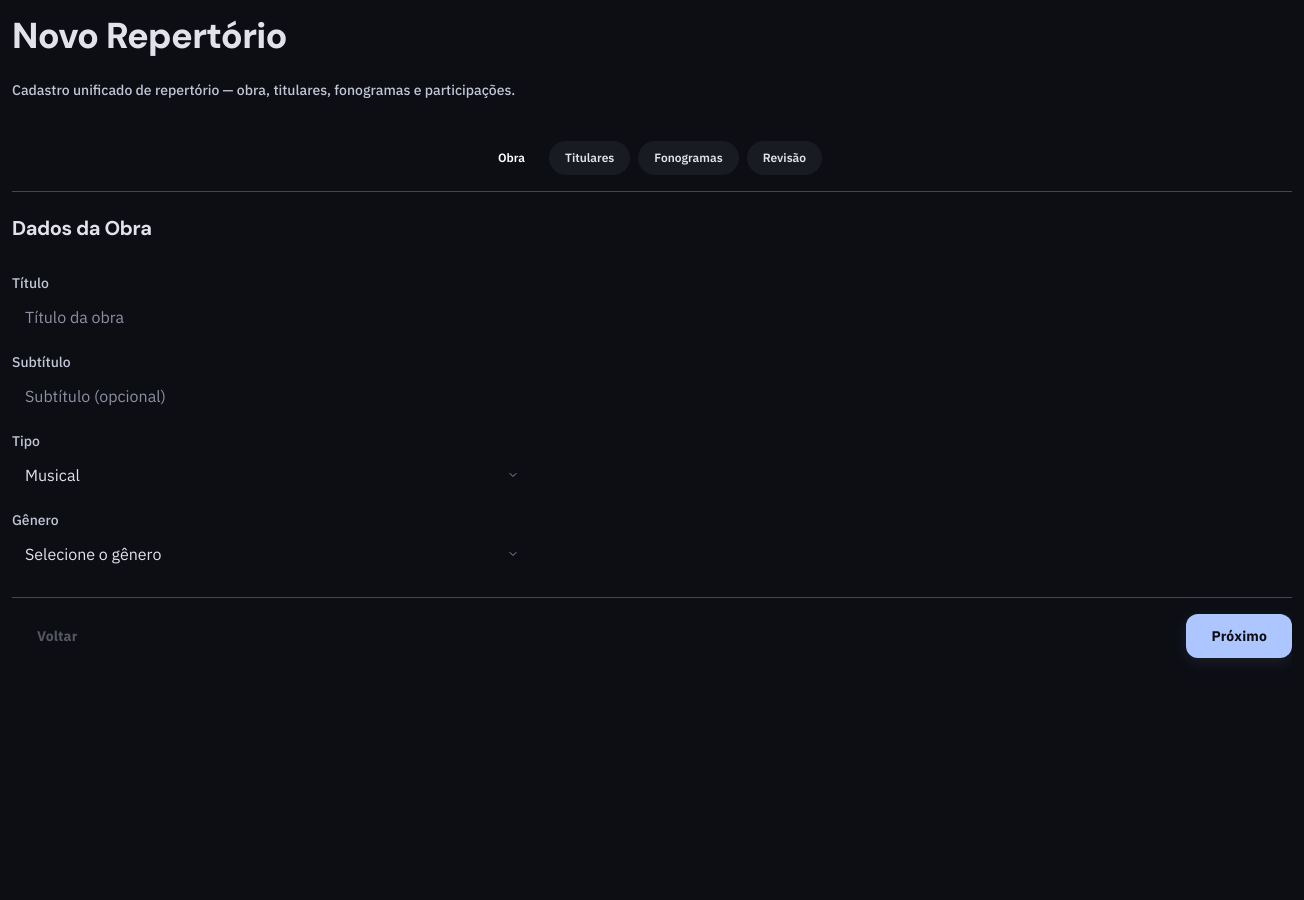
Test case: CadastroRepertorioPage › can advance from step 1 to step 2 when obra has title and type
In the field labelled "Título": {"x": 272, "y": 317} 12,298 -> 532,336, type "Minha Obra Teste"
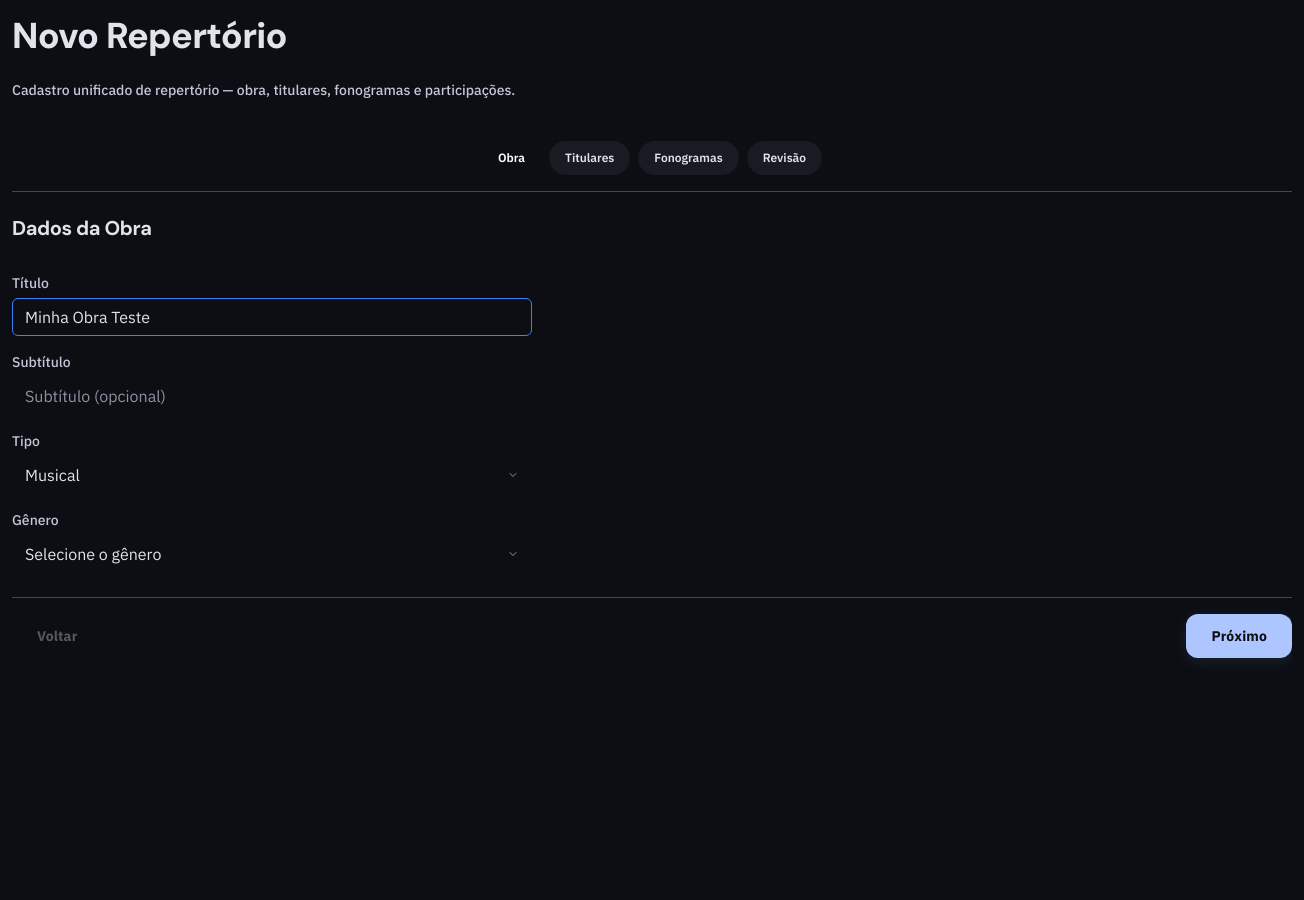
Select "Musical" in the dropdown labelled "Tipo": {"x": 272, "y": 475} 12,456 -> 532,494
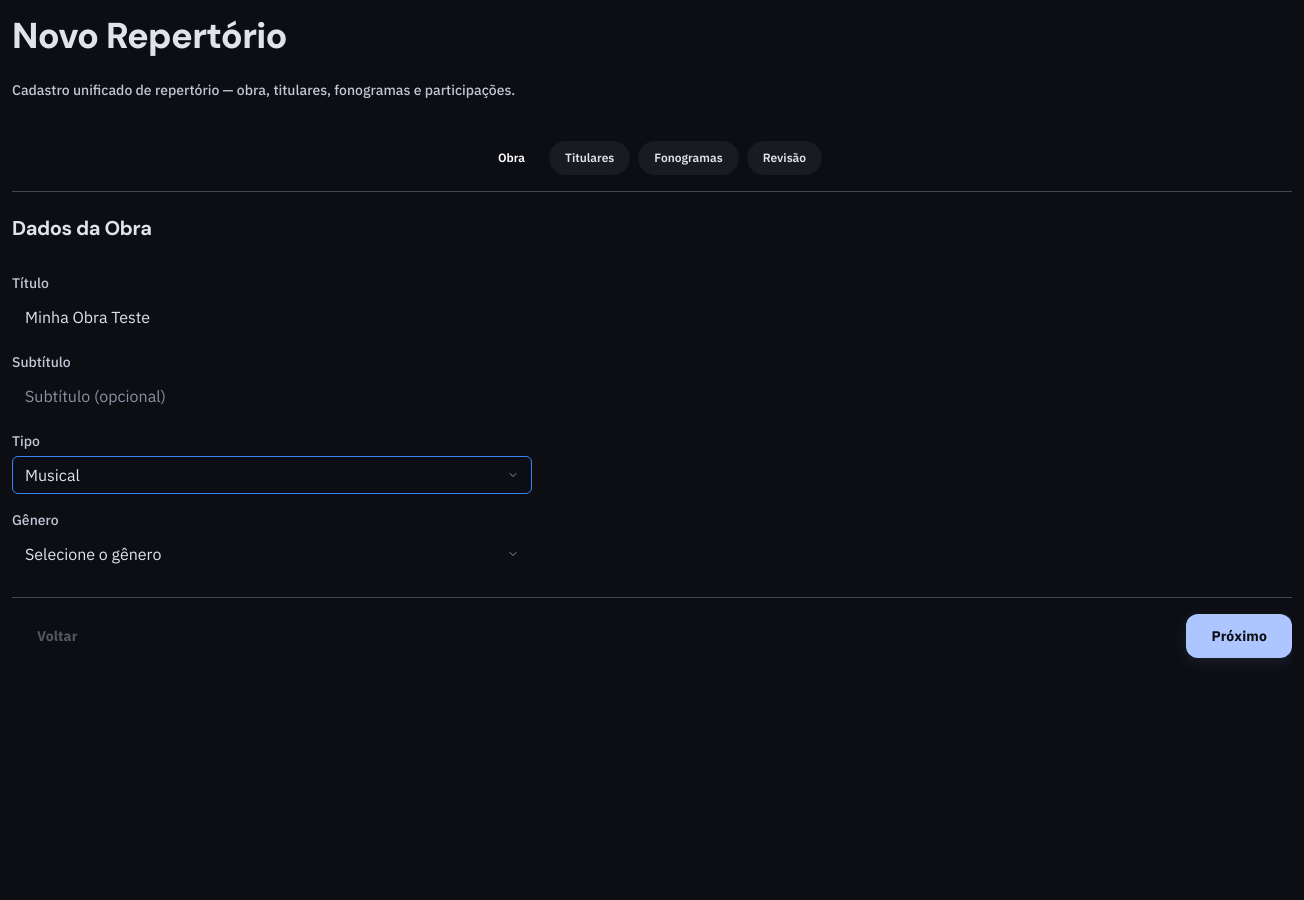
Click the button "Próximo": {"x": 1239, "y": 636} 1186,614 -> 1292,658
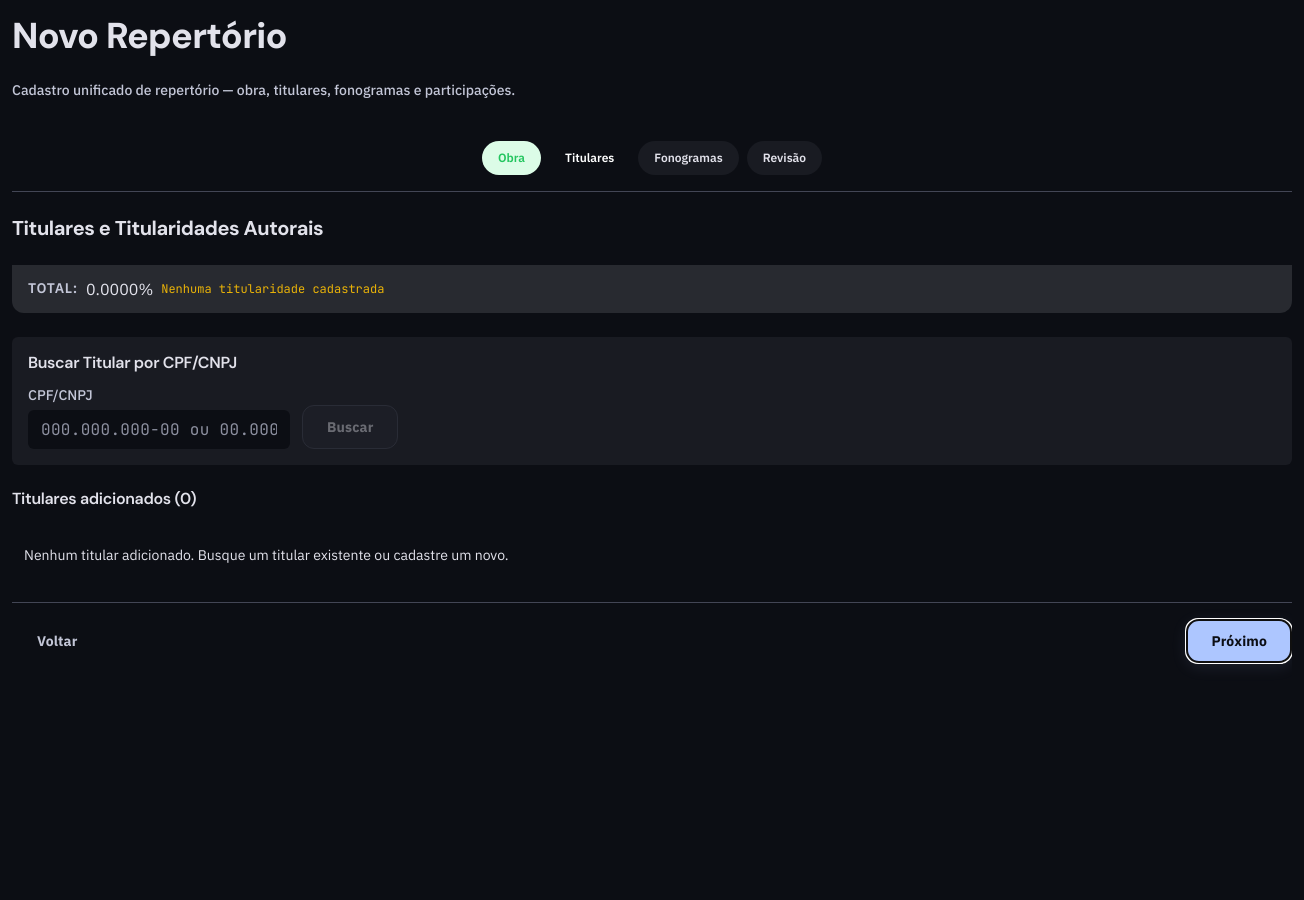
Now the heading "Titulares e Titularidades Autorais" is shown, box 12,215 -> 323,241
